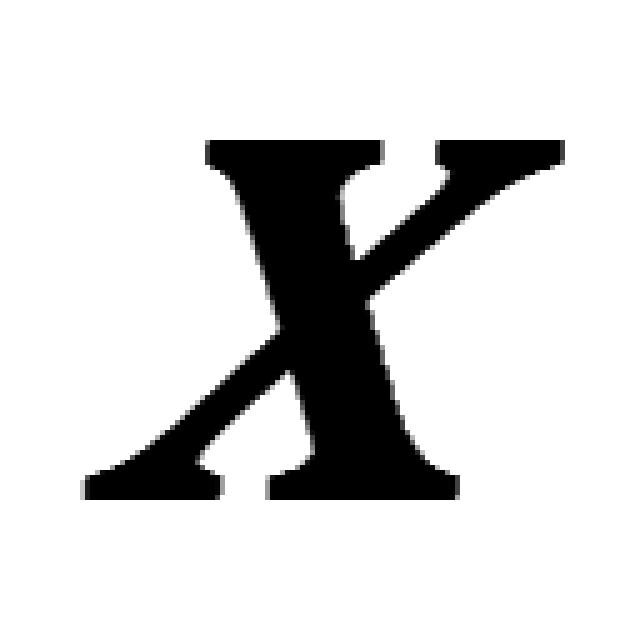X: (80, 130, 565, 505)
